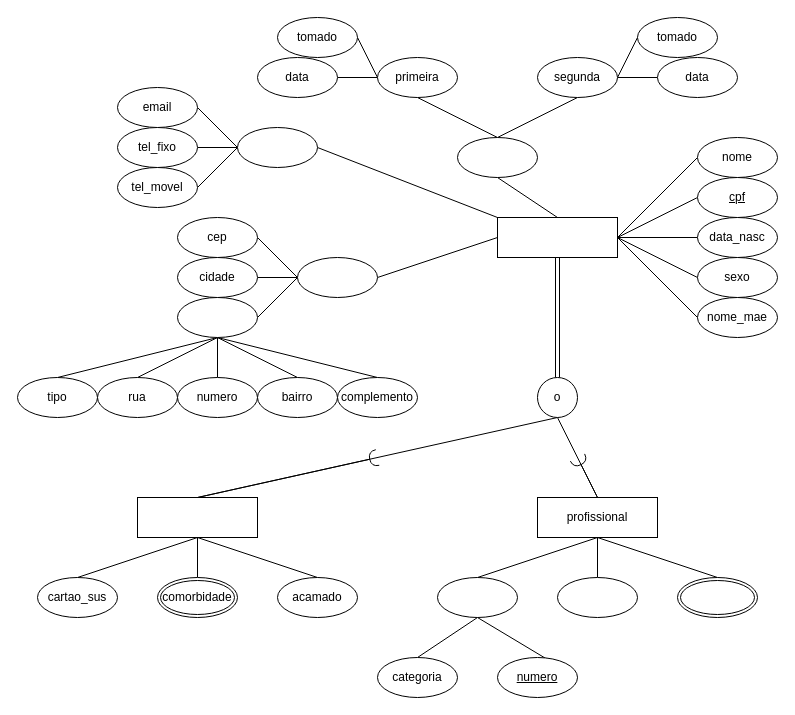
This 795x715 diagram has some shape labels left out. The shapes that lost their labels are listed below. From the top down, each one's centre as x and y in pixels, then its label:
the point at 277,147: contato
the point at 497,157: dose
the point at 557,237: vacinado
the point at 337,277: endereço
the point at 217,317: logradouro
the point at 197,517: idoso
the point at 477,597: conselho
the point at 597,597: setor
the point at 717,597: instituicao
